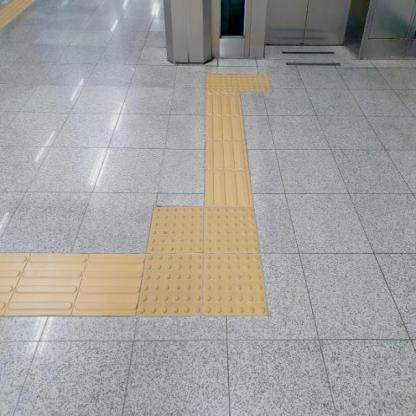podotacti: (129, 184, 298, 346), (0, 241, 138, 317), (204, 94, 251, 206), (206, 72, 272, 95)
